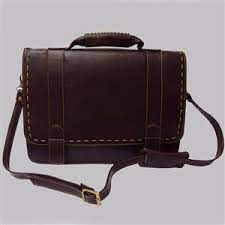Bag: (11, 30, 225, 175)
